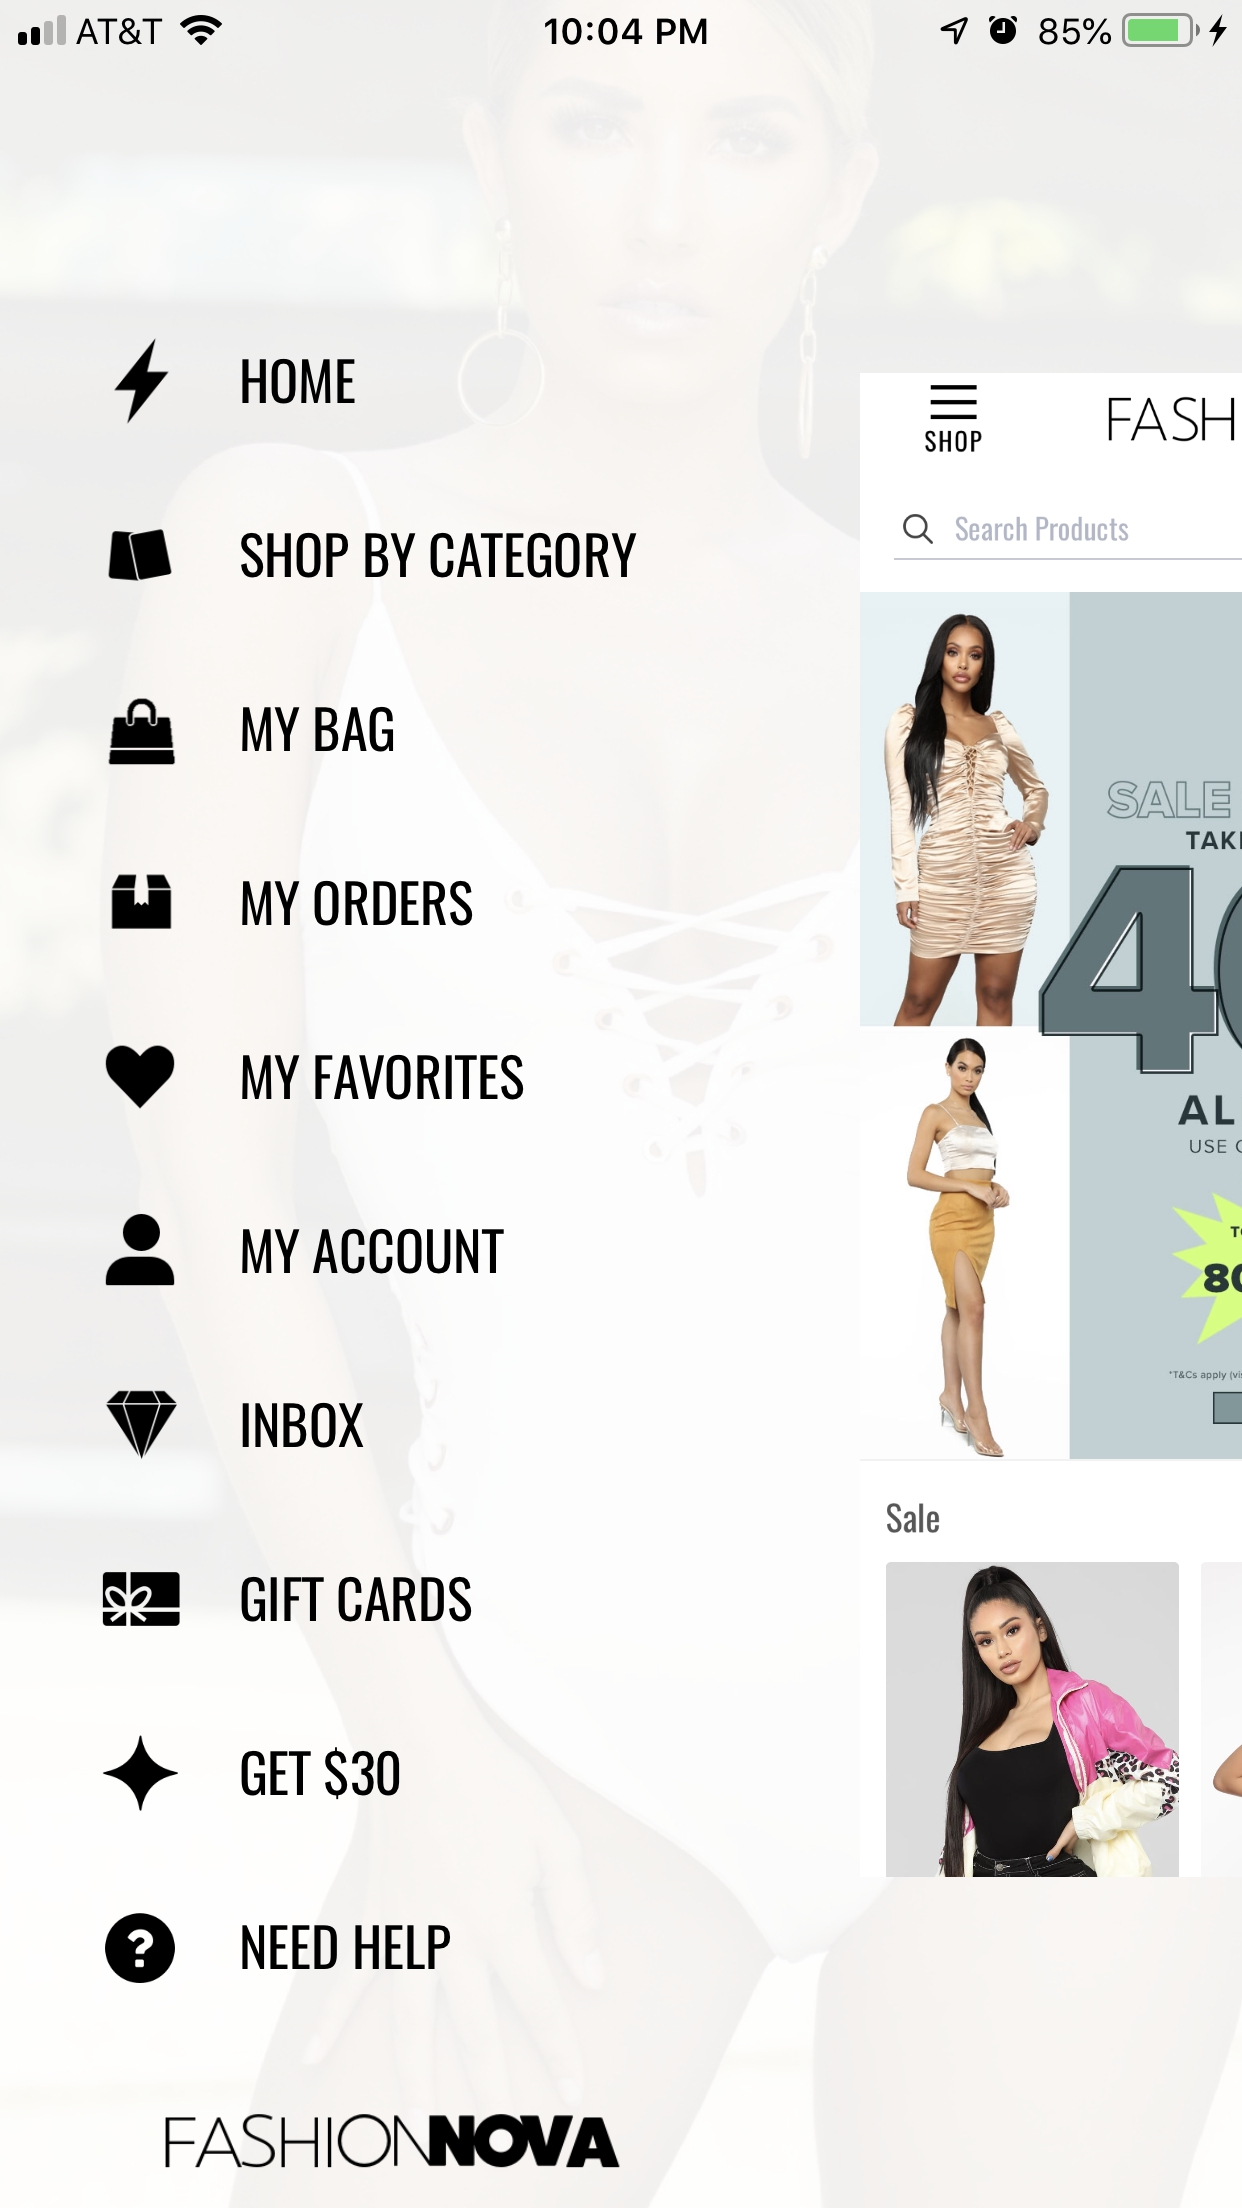BackgroundImage: (2, 2, 1242, 2208)
EditText: (895, 516, 1240, 563)
Icon: (105, 1912, 177, 1984), (106, 1215, 174, 1286), (108, 699, 177, 767), (105, 1045, 176, 1109), (103, 1571, 182, 1627), (108, 529, 173, 582), (931, 385, 978, 420), (902, 516, 934, 544)
Image: (861, 594, 1242, 1459), (886, 1563, 1178, 1877), (1203, 1563, 1242, 1876), (103, 1735, 180, 1812), (114, 340, 171, 425), (108, 1391, 179, 1459), (112, 873, 173, 930)
Text: (165, 2114, 622, 2169), (241, 532, 637, 579), (243, 1054, 525, 1099), (241, 1228, 503, 1275), (241, 880, 473, 927), (241, 1576, 472, 1623), (243, 1924, 450, 1971), (241, 1747, 400, 1800), (243, 707, 394, 754), (1109, 397, 1242, 441), (243, 1403, 365, 1450), (243, 358, 356, 405), (954, 516, 1128, 543), (886, 1504, 940, 1535), (927, 432, 983, 453)
UpperTaskBar: (2, 2, 1242, 49)
